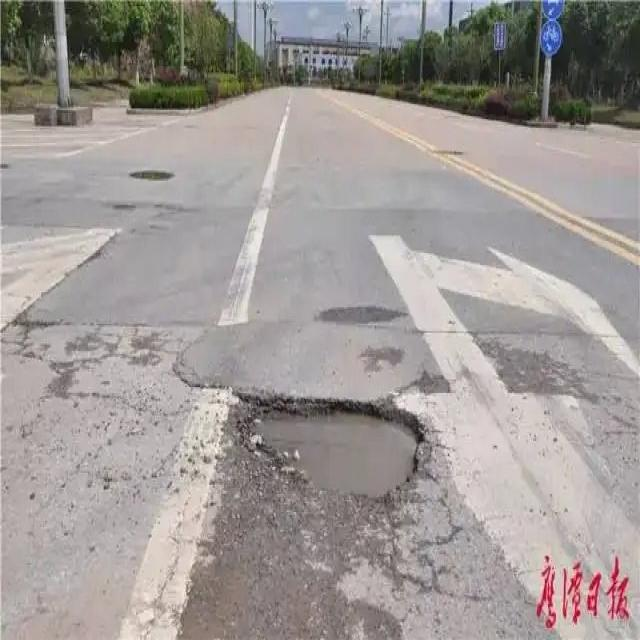Pothole: (237, 398, 424, 502), (132, 161, 176, 187)
